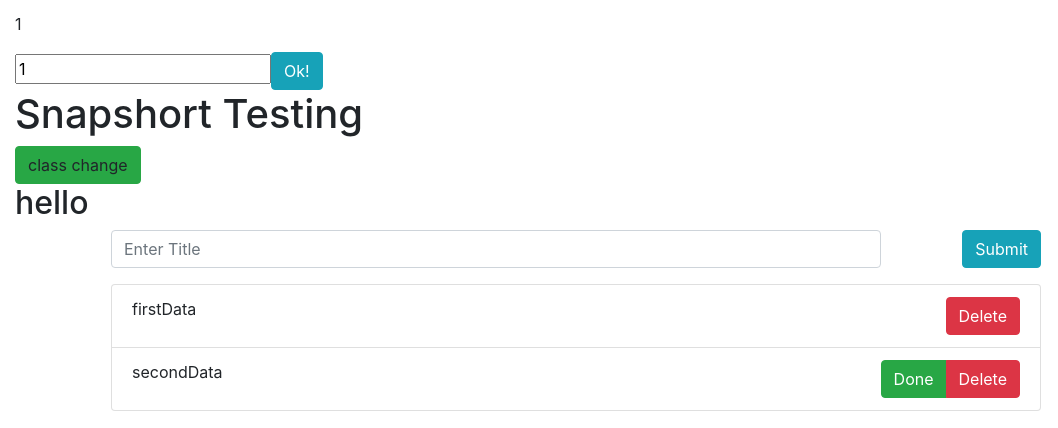
Test case: The Count Up Button › increments state count by 1 on click
Click the button "Ok!": (297, 71) [271,52,323,90]
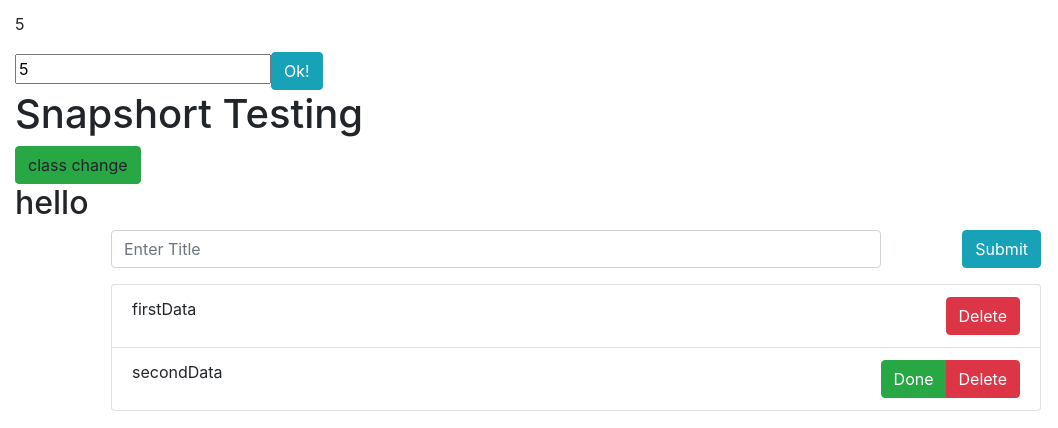
Expected: the number field holds "5", [15,54,271,84]
